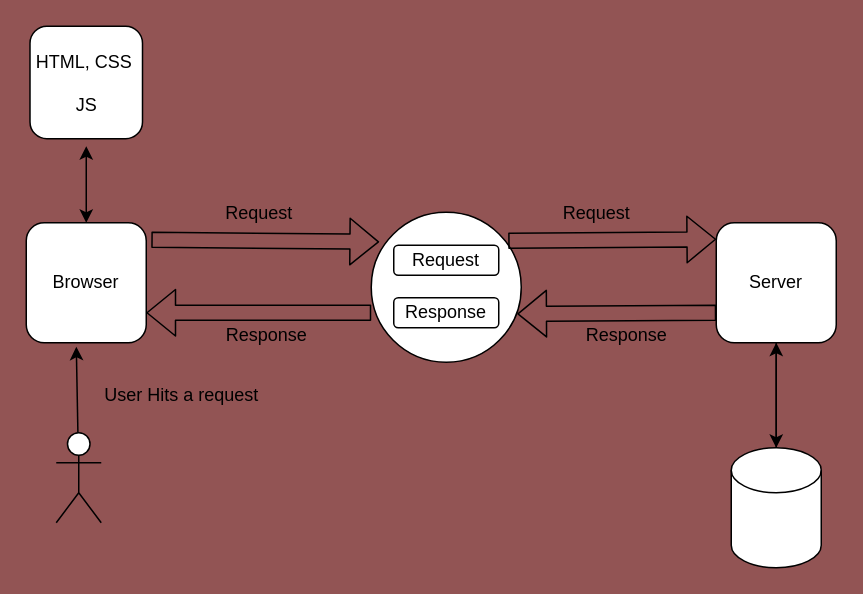
Some shapes in this 863 by 594 pixel diagram are drawn without their labels. The shapes that lost their labels are listed below. From the top down, each one's box as (x1, y1, x2, y2) in pixels, then its label:
(55, 431, 101, 523): User
(730, 446, 821, 568): Database
